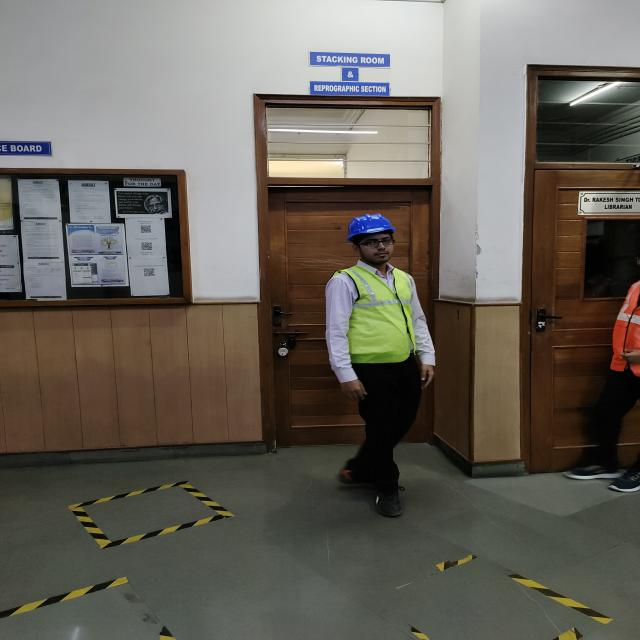safe: (324, 213, 435, 517)
